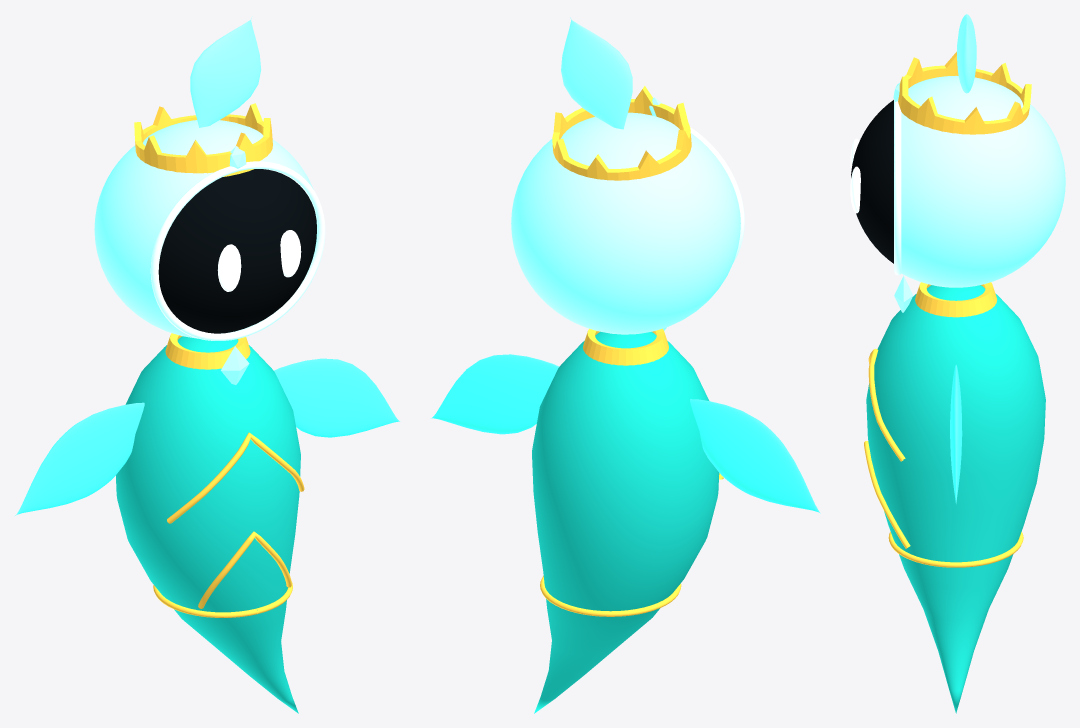
The model's file is luma_spirit.glb.
3 views of the same model, side by side, from view 1: azimuth 30°, elevation 25°; view 2: azimuth 150°, elevation 25°; view 3: azimuth 270°, elevation 25° (orthographic). The views are drawn at different scales.
Visible parts, largest first — view 1: Luma_Body, Luma_Visor, Luma_Head, Luma_Fin_L, Luma_Fin_R, Luma_Leaf, Luma_FaceRim, Luma_Crown, Luma_Collar, Luma_TrimUpper, Luma_TrimLower, Luma_TrimHem (+3 smaller); view 2: Luma_Body, Luma_Head, Luma_Fin_L, Luma_Fin_R, Luma_Leaf, Luma_Crown, Luma_Collar, Luma_TrimHem, Luma_FaceRim; view 3: Luma_Body, Luma_Head, Luma_Visor, Luma_Crown, Luma_Collar, Luma_FaceRim, Luma_Leaf, Luma_Fin_R, Luma_TrimHem, Luma_TrimUpper, Luma_TrimLower, Luma_Eye_R (+1 smaller).
Part boxes in pixels (x1=…): Luma_Body: x1=116, y1=336, x2=300, y2=713; Luma_Visor: x1=158, y1=169, x2=316, y2=333; Luma_Head: x1=94, y1=120, x2=317, y2=338; Luma_Fin_L: x1=15, y1=402, x2=144, y2=515; Luma_Fin_R: x1=274, y1=358, x2=399, y2=437; Luma_Leaf: x1=190, y1=16, x2=261, y2=127; Luma_FaceRim: x1=150, y1=161, x2=325, y2=340; Luma_Crown: x1=134, y1=103, x2=272, y2=176; Luma_Collar: x1=165, y1=333, x2=250, y2=369; Luma_TrimUpper: x1=167, y1=432, x2=304, y2=523; Luma_TrimLower: x1=198, y1=531, x2=291, y2=608; Luma_TrimHem: x1=153, y1=582, x2=292, y2=617; Luma_Body: x1=532, y1=331, x2=719, y2=713; Luma_Head: x1=511, y1=112, x2=740, y2=334; Luma_Fin_L: x1=690, y1=399, x2=820, y2=513; Luma_Fin_R: x1=431, y1=354, x2=558, y2=434; Luma_Leaf: x1=561, y1=17, x2=632, y2=129; Luma_Crown: x1=552, y1=86, x2=691, y2=180; Luma_Collar: x1=583, y1=328, x2=668, y2=365; Luma_TrimHem: x1=540, y1=575, x2=681, y2=616; Luma_FaceRim: x1=690, y1=127, x2=744, y2=261; Luma_Body: x1=866, y1=285, x2=1045, y2=713; Luma_Head: x1=901, y1=75, x2=1065, y2=287; Luma_Visor: x1=851, y1=100, x2=893, y2=263; Luma_Crown: x1=898, y1=51, x2=1031, y2=134; Luma_Collar: x1=915, y1=282, x2=996, y2=317; Luma_FaceRim: x1=894, y1=91, x2=901, y2=275; Luma_Leaf: x1=956, y1=14, x2=976, y2=93; Luma_Fin_R: x1=950, y1=364, x2=962, y2=503; Luma_TrimHem: x1=888, y1=531, x2=1023, y2=567; Luma_TrimUpper: x1=868, y1=348, x2=905, y2=461; Luma_TrimLower: x1=864, y1=441, x2=910, y2=548; Luma_Eye_R: x1=850, y1=166, x2=860, y2=213.
Size of the model in its own units: 0.8071 by 1.41 by 0.403.
